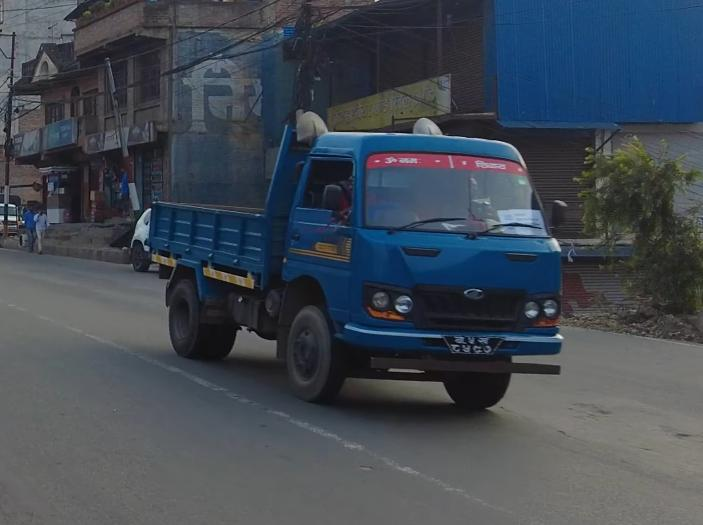mini_truck: (142, 109, 575, 419)
